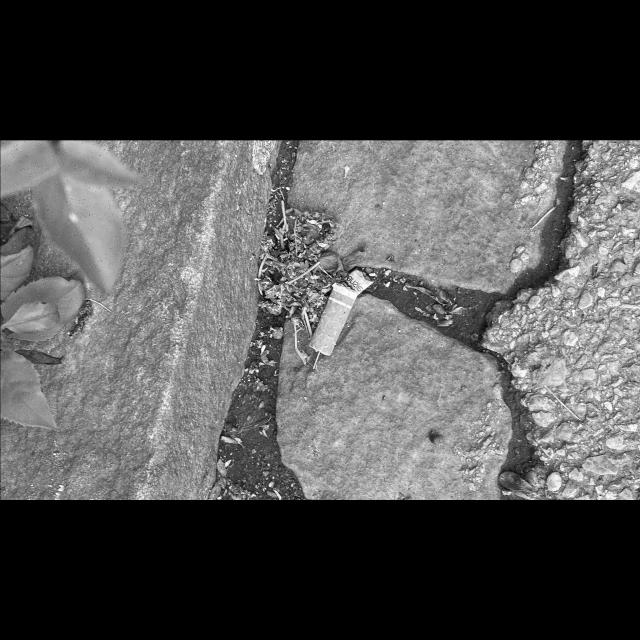cigarette: (308, 267, 374, 356)
